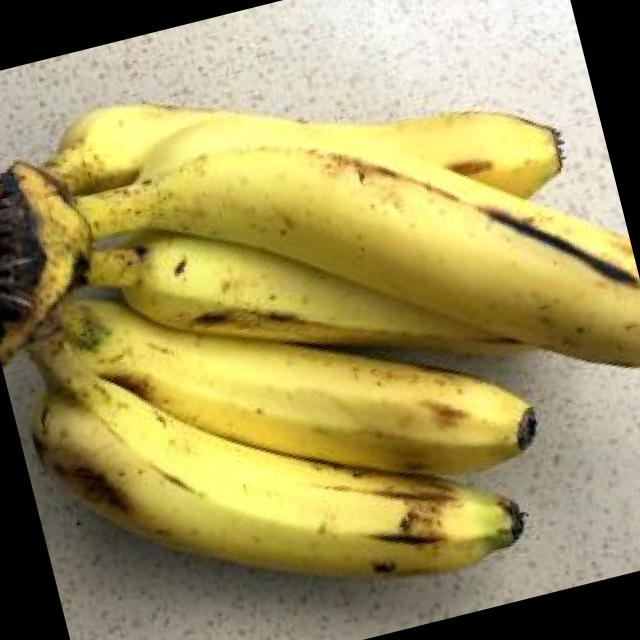banana: (76, 0, 499, 559)
